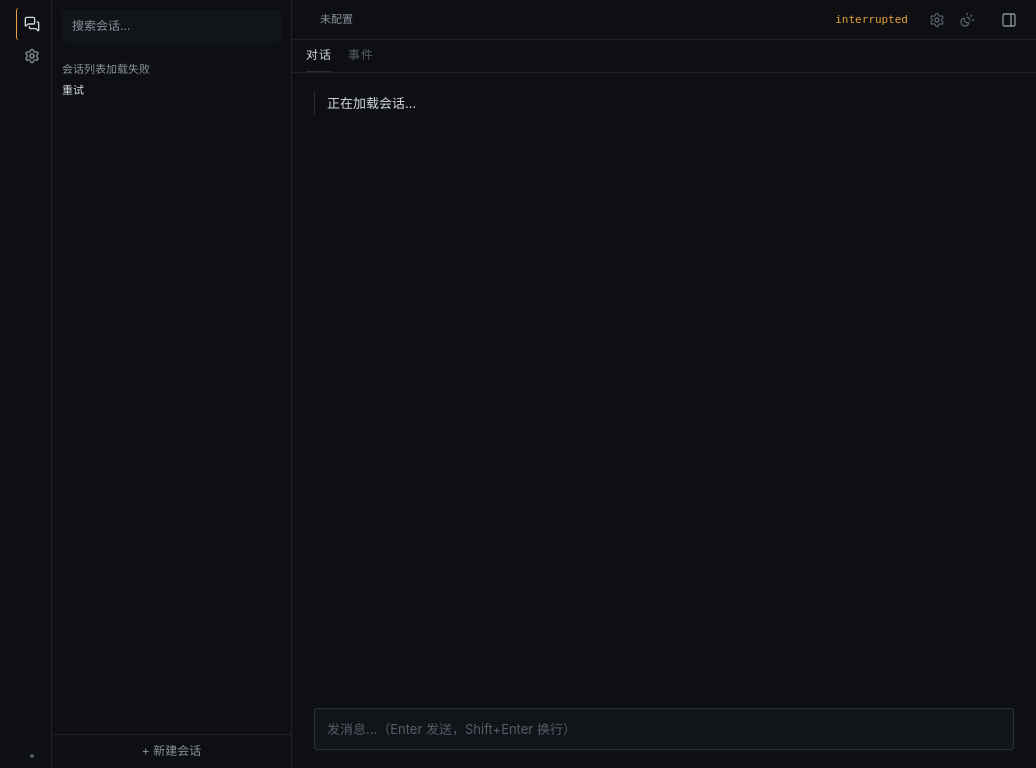
Test: AppFrame catalog states › surfaces a catalog error and recovers through retry
Expected: the message shows "会话列表加载失败", [62,62,150,76]
Click the button "重试": (73, 90) [62,78,84,103]
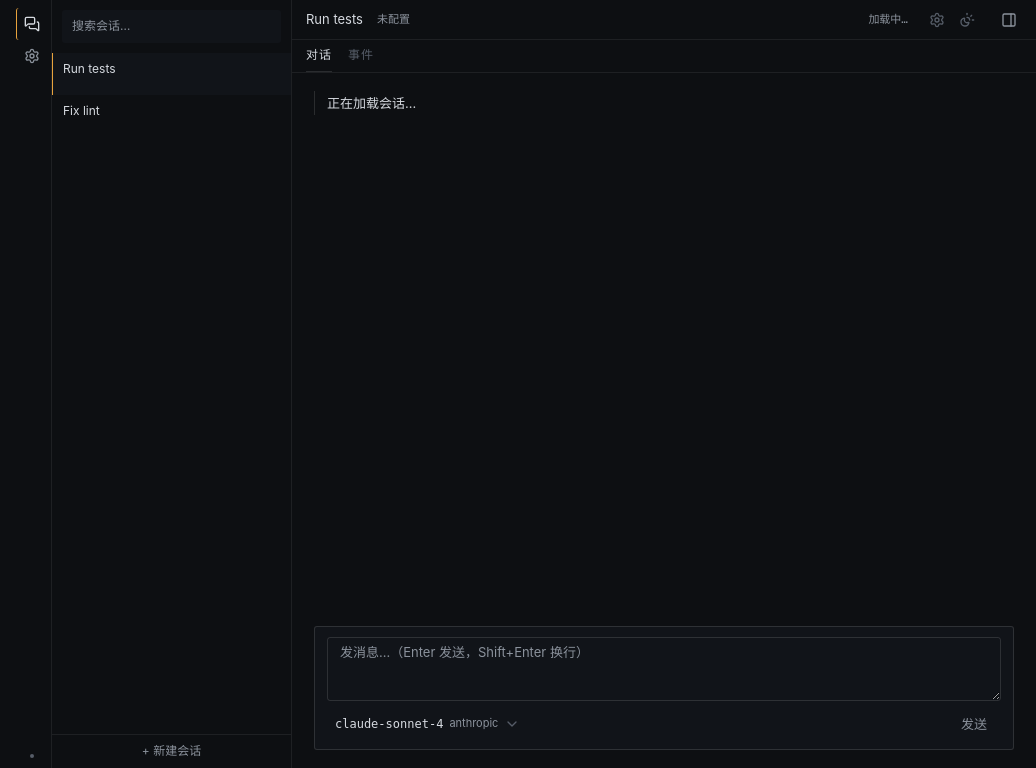
Result: the number of buttons with class "session" is 2 at [52,53,291,95]; [52,95,291,138]
